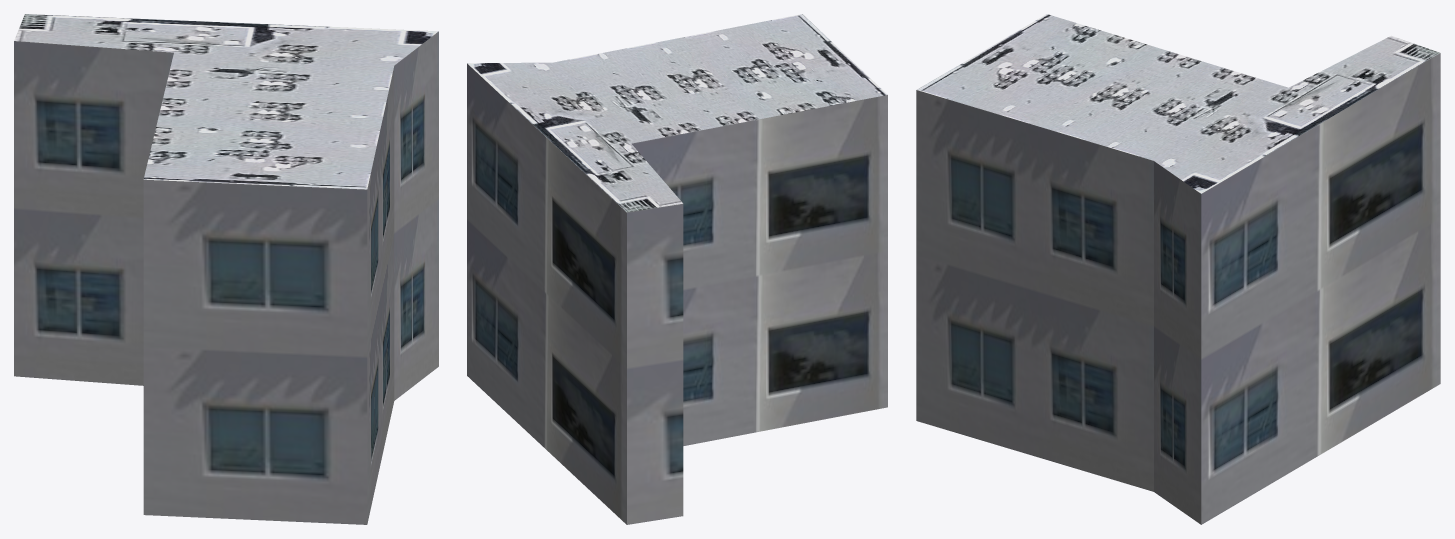
Rendered from ResTex__1072.fbx.
3 renders of one model, left to right at view 1: azimuth 30°, elevation 25°; view 2: azimuth 150°, elevation 25°; view 3: azimuth 270°, elevation 25°, orthographic. The views are drawn at different scales.
Parts seen in each view (by area): view 1: CityEngineMaterial_10_m, CityEngineMaterial_8_m; view 2: CityEngineMaterial_10_m, CityEngineMaterial_8_m; view 3: CityEngineMaterial_10_m, CityEngineMaterial_8_m.
Part boxes in pixels (x1=…): CityEngineMaterial_10_m: x1=14, y1=31, x2=438, y2=524; CityEngineMaterial_8_m: x1=14, y1=14, x2=438, y2=189; CityEngineMaterial_10_m: x1=467, y1=63, x2=887, y2=524; CityEngineMaterial_8_m: x1=467, y1=14, x2=887, y2=212; CityEngineMaterial_10_m: x1=916, y1=53, x2=1440, y2=524; CityEngineMaterial_8_m: x1=917, y1=14, x2=1439, y2=193.
Bounding box in the file's own units: 6.99 × 6 × 8.61.
Materials: 2 (2 with a texture image).
